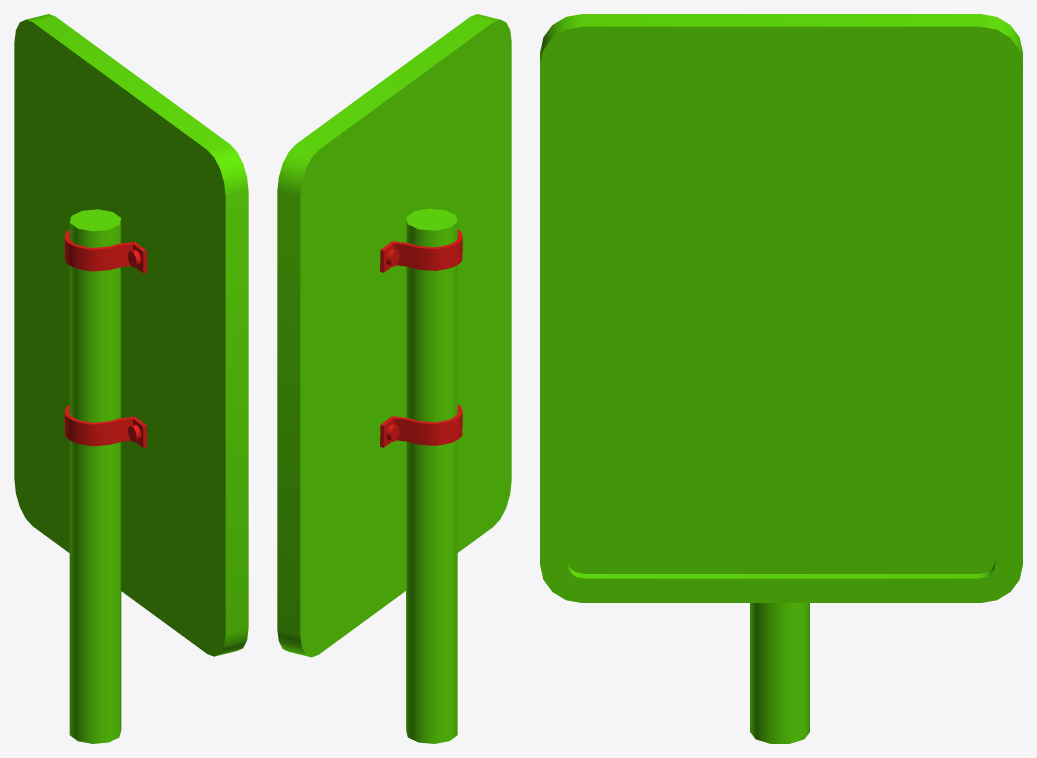
File: sign.fbx
3 renders of one model, left to right at view 1: azimuth 30°, elevation 25°; view 2: azimuth 150°, elevation 25°; view 3: azimuth 270°, elevation 25°, orthographic. The views are drawn at different scales.
Parts seen in each view (by area): view 1: sign; view 2: sign; view 3: sign.
Part boxes in pixels (box(x1,y1,x2,y2)): sign: box(14, 14, 248, 743); sign: box(277, 14, 511, 743); sign: box(540, 14, 1022, 743).
Bounding box in the file's own units: 19.81 × 161 × 96.31.
